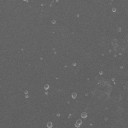corrosion: (74, 119, 84, 128), (80, 112, 88, 119), (71, 92, 78, 99), (43, 83, 49, 90), (46, 121, 53, 127), (98, 69, 103, 77), (51, 19, 57, 25), (111, 7, 117, 13), (71, 61, 77, 67), (24, 94, 30, 99), (24, 89, 29, 94), (44, 90, 49, 95), (56, 112, 61, 117), (110, 77, 115, 82), (120, 65, 123, 69)
